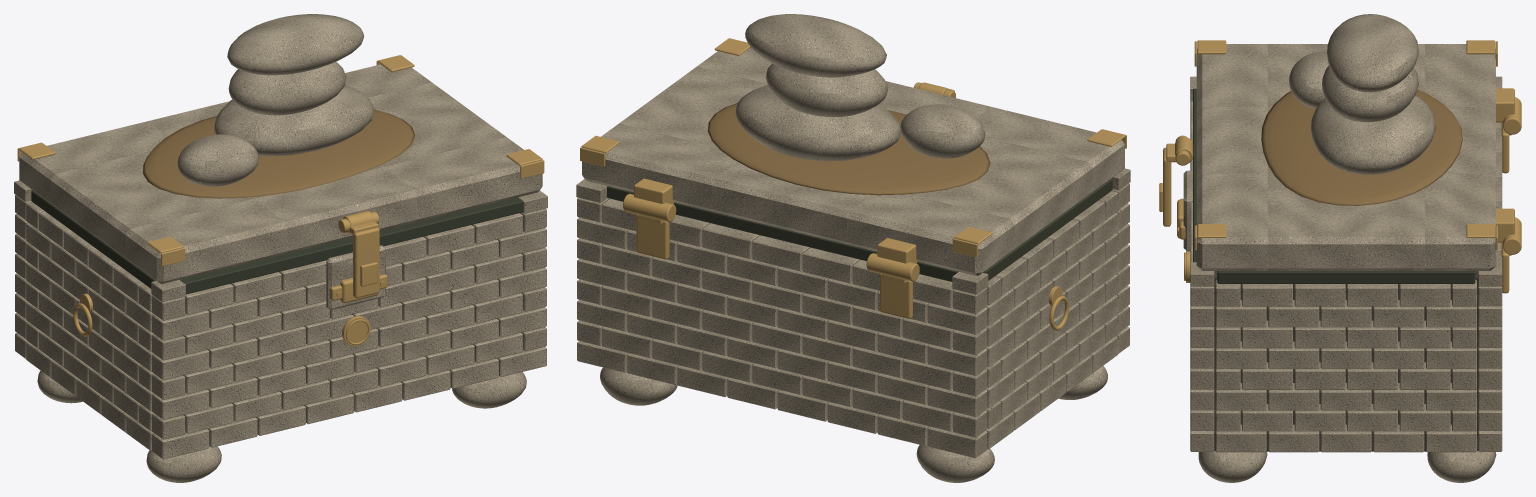
Rendered from zimbabwe.glb.
The picture shows the model from 3 angles, left to right: view 1: azimuth 30°, elevation 25°; view 2: azimuth 150°, elevation 25°; view 3: azimuth 270°, elevation 25°; orthographic projection. The views are drawn at different scales.
Visible parts, largest first — view 1: Lid / polished slab, Terrain / ochre plinth, Kopje / crown boulder, Kopje / basal boulder, Mineral seam / long, Kopje / middle boulder, Kopje / companion, Granite foot, Granite foot.002, Mineral seam / side, Latch / lifting hasp, Granite / clasp seat (+67 smaller); view 2: Lid / polished slab, Terrain / ochre plinth, Kopje / basal boulder, Kopje / crown boulder, Kopje / middle boulder, Kopje / companion, Mineral seam / long.001, Granite foot.001, Granite foot.003, Mineral seam / side, Masonry / front rear block.130, Masonry / front rear block.131 (+72 smaller); view 3: Lid / polished slab, Terrain / ochre plinth, Kopje / basal boulder, Kopje / crown boulder, Mineral seam / side.001, Kopje / middle boulder, Granite foot.002, Granite foot.003, Kopje / companion, Masonry / side block.084, Masonry / side block.086, Masonry / side block.083 (+71 smaller).
Boxes of the visible parts, x1,y1,x2,y2 form: Lid / polished slab: (19,64,542,284); Terrain / ochre plinth: (143,109,415,198); Kopje / crown boulder: (227,14,364,75); Kopje / basal boulder: (214,85,374,156); Mineral seam / long: (180,197,523,294); Kopje / middle boulder: (228,62,346,115); Kopje / companion: (177,134,259,186); Granite foot: (146,446,221,482); Granite foot.002: (452,372,526,408); Mineral seam / side: (31,190,155,288); Latch / lifting hasp: (353,227,379,298); Granite / clasp seat: (326,245,385,310); Lid / polished slab: (582,48,1124,276); Terrain / ochre plinth: (707,103,990,195); Kopje / basal boulder: (735,85,901,161); Kopje / crown boulder: (745,14,886,77); Kopje / middle boulder: (765,63,887,116); Kopje / companion: (900,104,985,158); Mineral seam / long.001: (607,186,958,281); Granite foot.001: (916,445,994,482); Granite foot.003: (600,367,677,405); Mineral seam / side: (983,178,1112,280); Masonry / front rear block.130: (802,247,860,283); Masonry / front rear block.131: (752,235,810,271); Lid / polished slab: (1196,44,1495,270); Terrain / ochre plinth: (1261,89,1462,205); Kopje / basal boulder: (1311,95,1435,174); Kopje / crown boulder: (1327,14,1418,92); Mineral seam / side.001: (1217,271,1475,283); Kopje / middle boulder: (1322,65,1418,122); Granite foot.002: (1198,451,1267,482); Granite foot.003: (1427,451,1496,482); Kopje / companion: (1289,51,1328,108); Masonry / side block.084: (1294,284,1345,306); Masonry / side block.086: (1399,284,1450,306); Masonry / side block.083: (1242,284,1292,306).
Size of the model in its own units: 3.79 by 3.35 by 2.88.
Materials: 5 (2 with a texture image).
